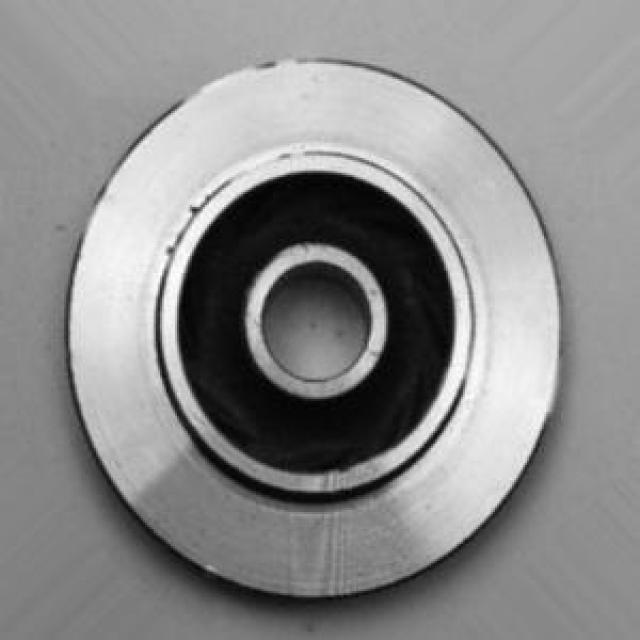Defect: (175, 197, 213, 222)
